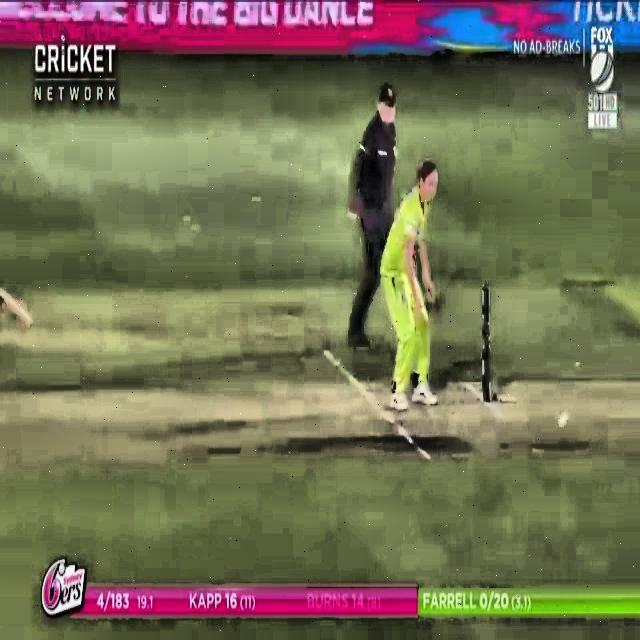Ball: (555, 405, 575, 430)
Bat: (0, 289, 36, 329)
Pitch_Line: (319, 349, 433, 463)
Undis_Wicket: (469, 277, 501, 405)
